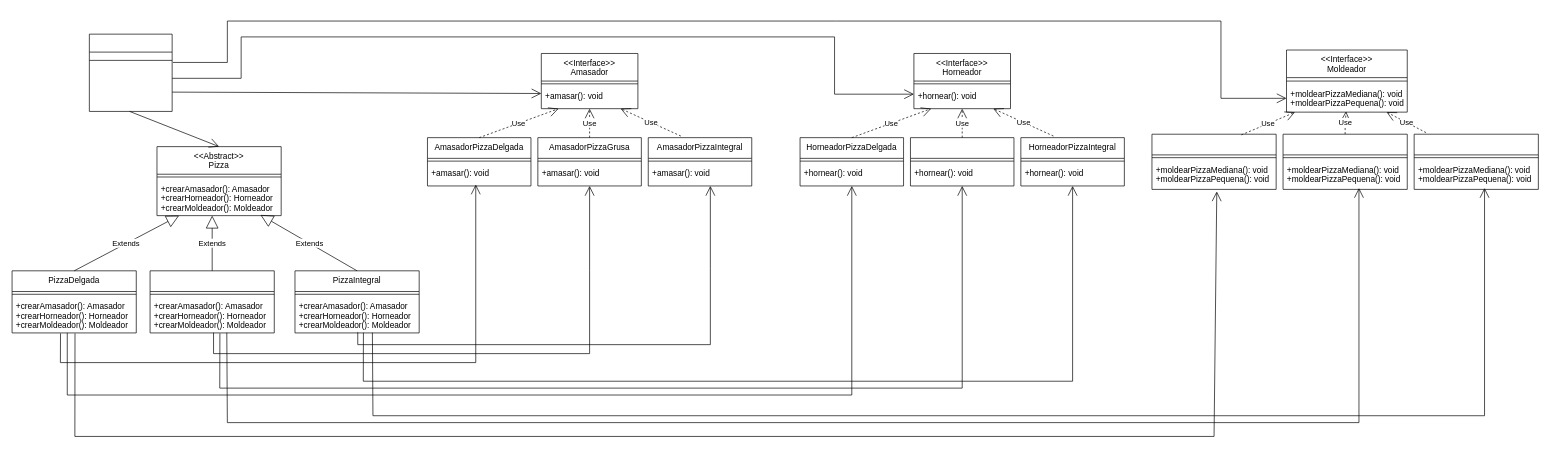
The diagram is 1550 pixels wide and 458 high, and some of its shapes have lost their labels. Here are the shapes that lost their labels. From the top down, the box of each, then its label:
(89, 33, 172, 111): PreparadorPizza
(910, 137, 1014, 186): HorneadorPizzaGrusa
(1151, 134, 1276, 189): MoldeadorPizzaDelgada
(1282, 134, 1407, 189): MoldeadorPizzaGruesa
(1413, 134, 1538, 189): MoldeadorPizzaIntegral
(149, 270, 274, 333): PizzaGruesa
